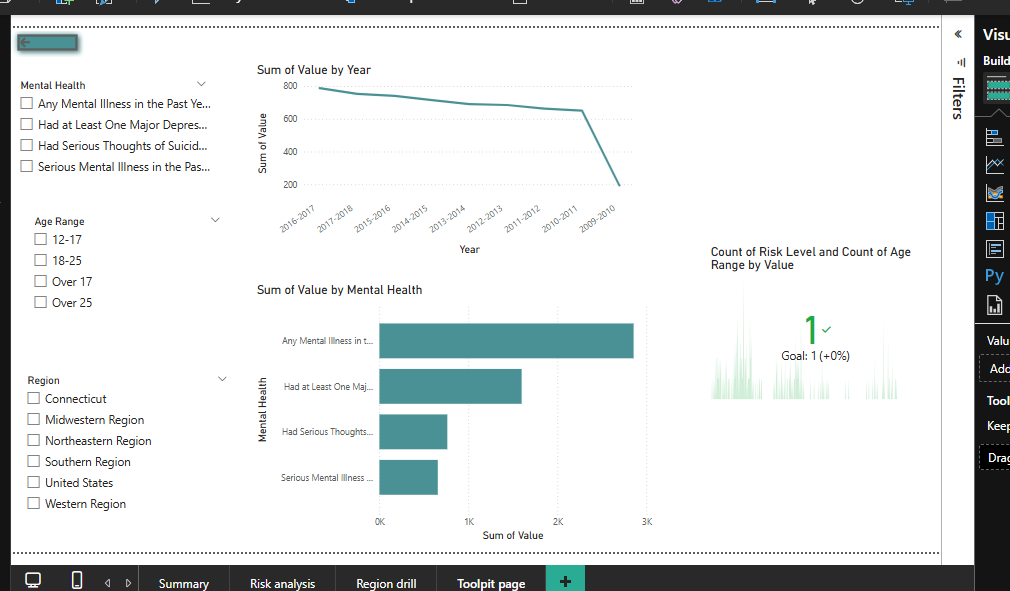

Layout of this report page (visuals, bound fields, positions):
{"tool":"powerbi","page":{"name":"Toolpit page","canvas":[1280,722],"ordinal":3},"visuals":[{"type":"lineChart","fields":{"Category":["cleaned_mental_health_data.Year"],"Y":["Sum(cleaned_mental_health_data.Value)"]},"box":[333.1,46.8,529.9,271.1],"z":0},{"type":"barChart","fields":{"Category":["cleaned_mental_health_data.Mental Health"],"Y":["Sum(cleaned_mental_health_data.Value)"]},"box":[333.1,349.6,561.5,362],"z":1000},{"type":"slicer","fields":{"Values":["cleaned_mental_health_data.Mental Health"]},"box":[0,66.1,280.8,150],"z":2000},{"type":"slicer","fields":{"Values":["cleaned_mental_health_data.Age Range"]},"box":[19.3,253.2,280.8,218.8],"z":3000},{"type":"slicer","fields":{"Values":["cleaned_mental_health_data.Region"]},"box":[9.6,472.1,300,218.8],"z":4000},{"type":"kpi","fields":{"Indicator":["CountNonNull(cleaned_mental_health_data.Risk Level)"],"Goal":["CountNonNull(cleaned_mental_health_data.Age Range)"],"TrendLine":["cleaned_mental_health_data.Value"]},"box":[957.9,297.3,298.7,218.8],"z":5000},{"type":"actionButton","box":[0,0,100.5,39.9],"z":5001}]}

Visuals, with their boxes on the page's 1280x722 design canvas (x1, y1, x2, y2). These are canvas units, not pixel positions in the 1010x591 screenshot, which may show the page scaled, cropped or inside an application window:
lineChart - cleaned_mental_health_data.Year x Sum(cleaned_mental_health_data.Value): bbox=[333, 47, 863, 318]
barChart - cleaned_mental_health_data.Mental Health x Sum(cleaned_mental_health_data.Value): bbox=[333, 350, 895, 712]
slicer - cleaned_mental_health_data.Mental Health: bbox=[0, 66, 281, 216]
slicer - cleaned_mental_health_data.Age Range: bbox=[19, 253, 300, 472]
slicer - cleaned_mental_health_data.Region: bbox=[10, 472, 310, 691]
kpi - CountNonNull(cleaned_mental_health_data.Risk Level) x CountNonNull(cleaned_mental_health_data.Age Range): bbox=[958, 297, 1257, 516]
actionButton: bbox=[0, 0, 100, 40]
